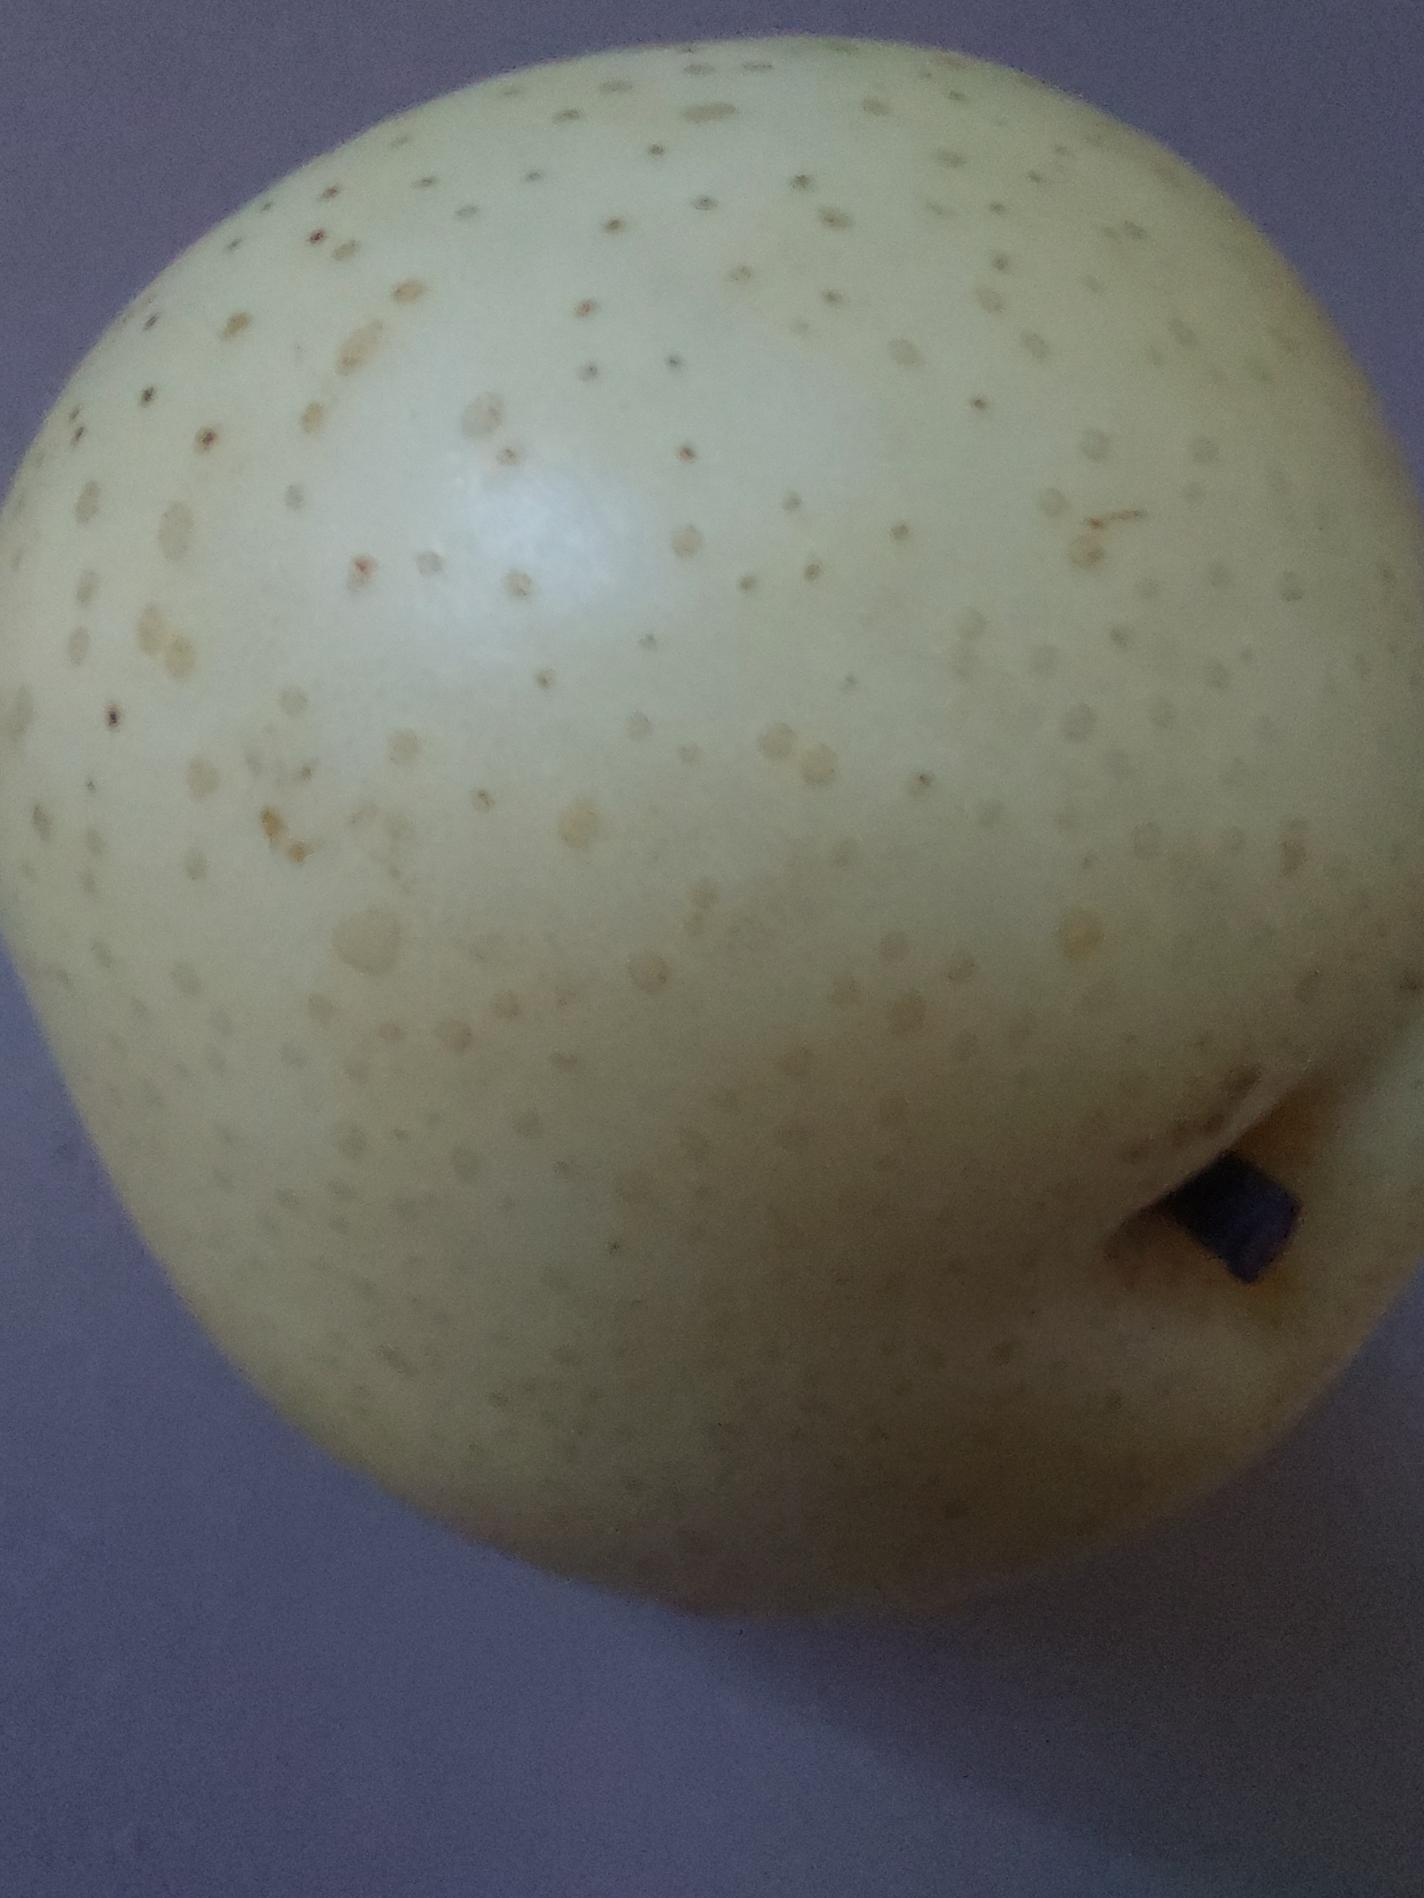Good Pear: (0, 0, 1424, 1720)
